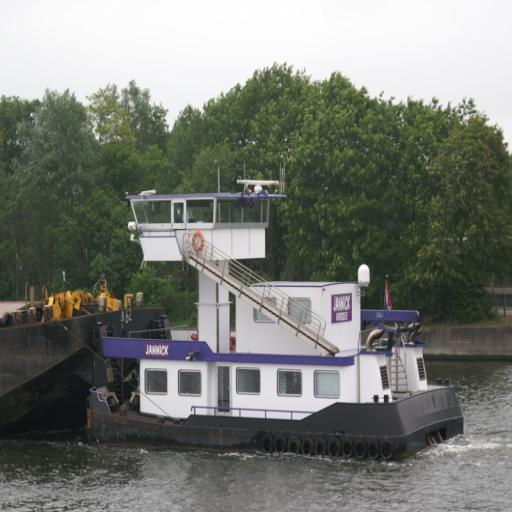tugboat: (83, 177, 469, 470)
